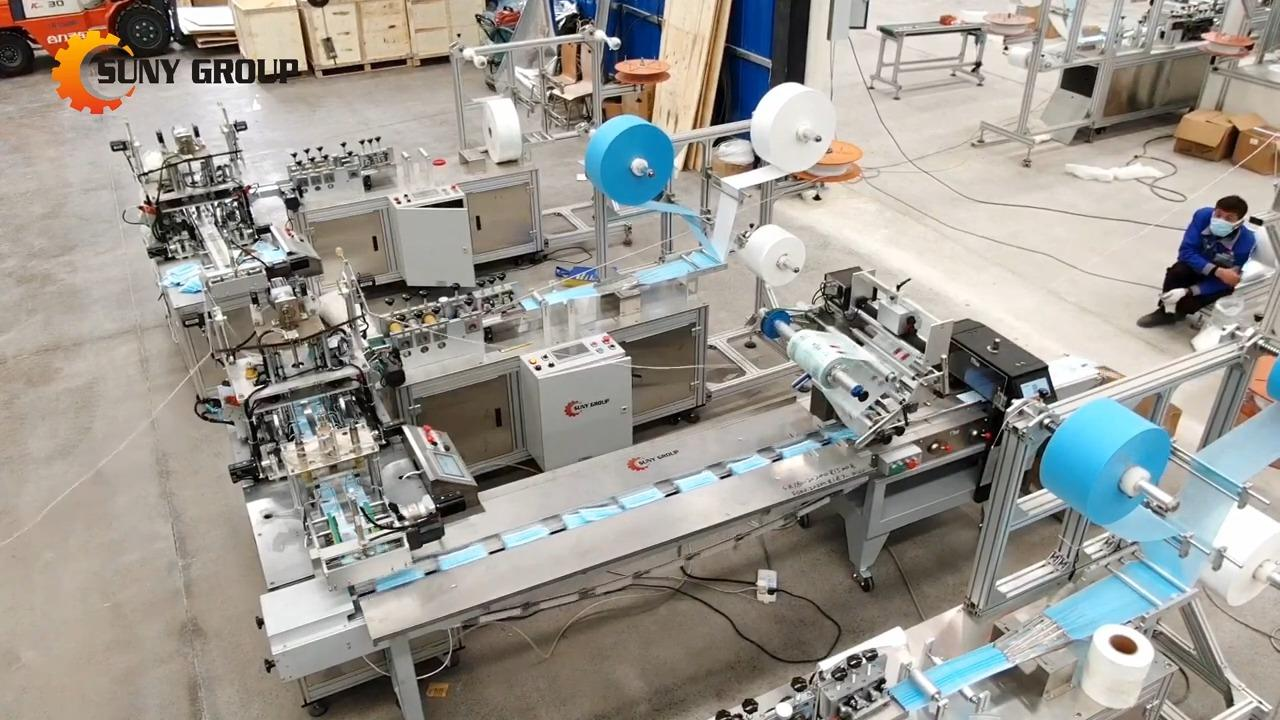mask: (498, 522, 551, 550), (614, 485, 666, 512), (438, 543, 488, 571), (672, 467, 720, 494), (728, 452, 771, 476), (776, 438, 822, 460), (578, 504, 623, 522)
